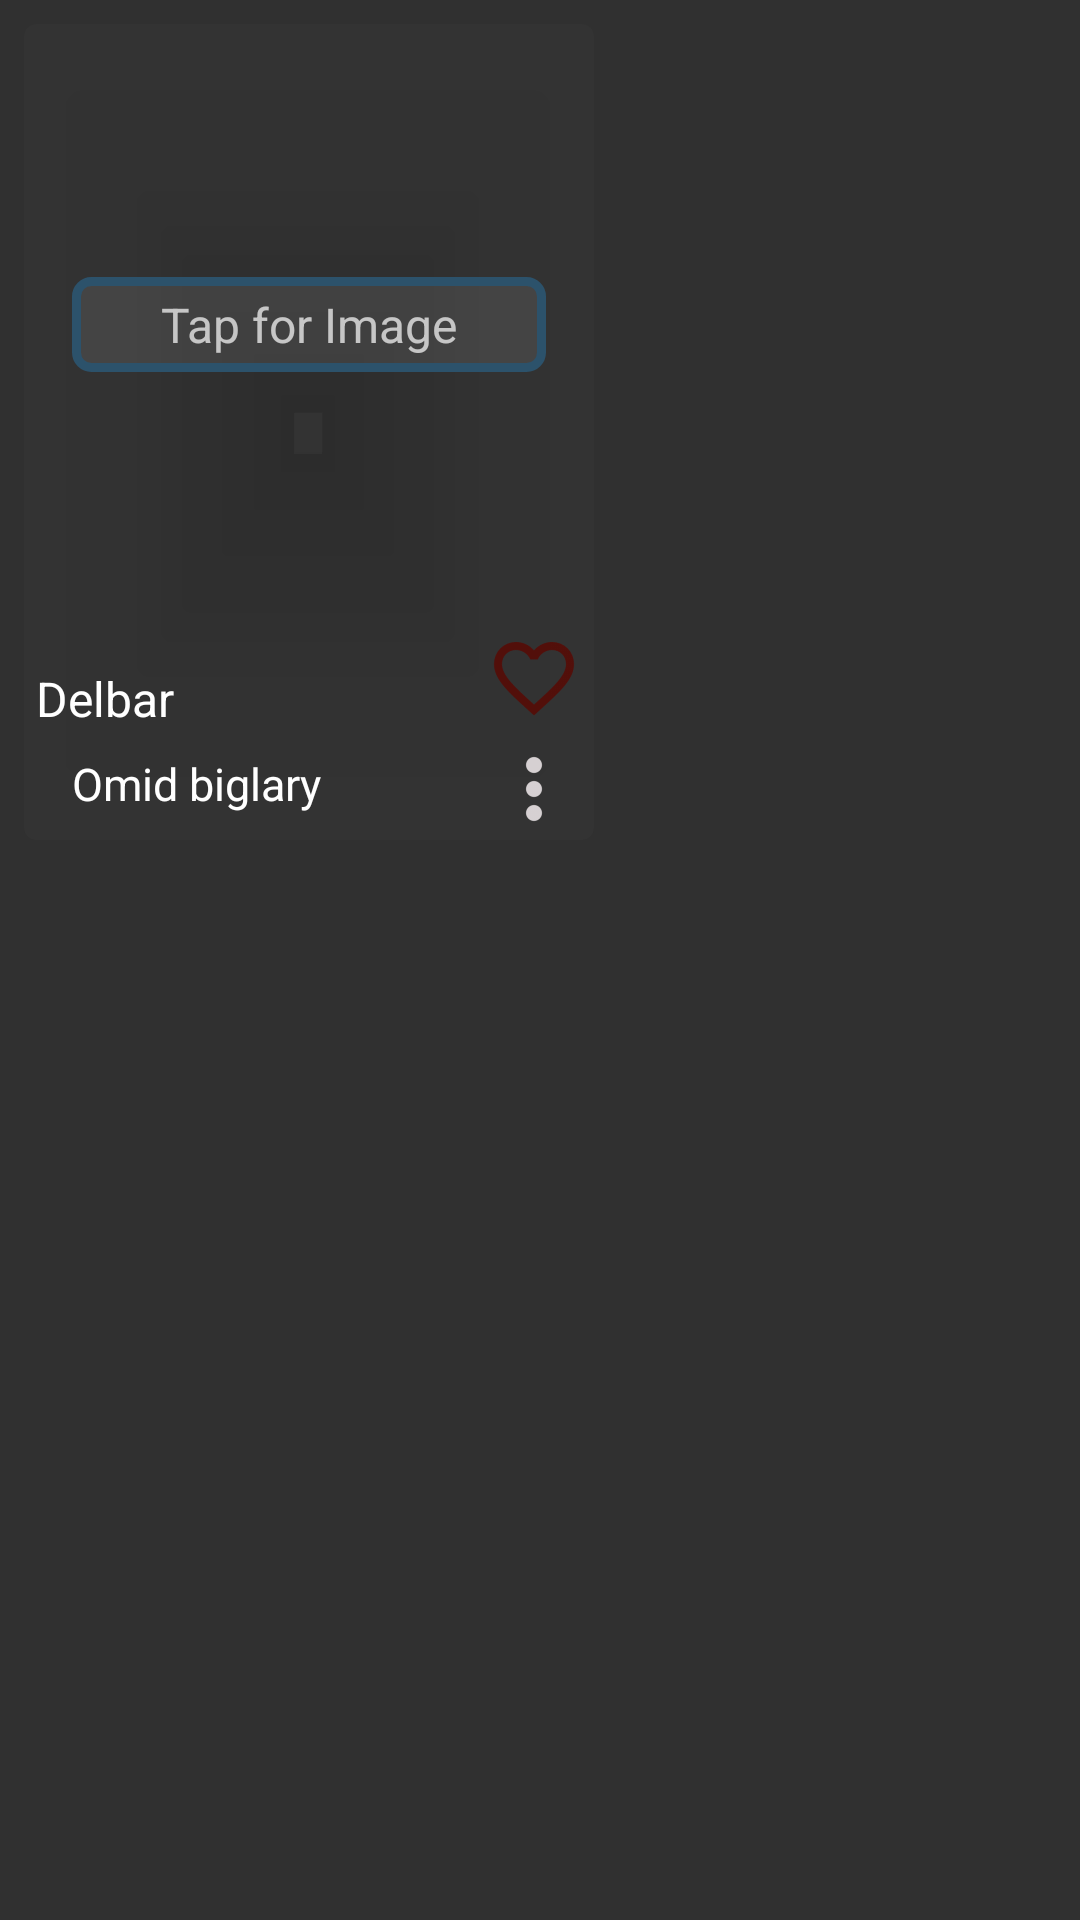

Icons on this 1080*1920 Android screen, each with its box as rect(x1, y1, x2, y2):
details: rect(526, 757, 542, 821)
not fave: rect(494, 642, 574, 715)
